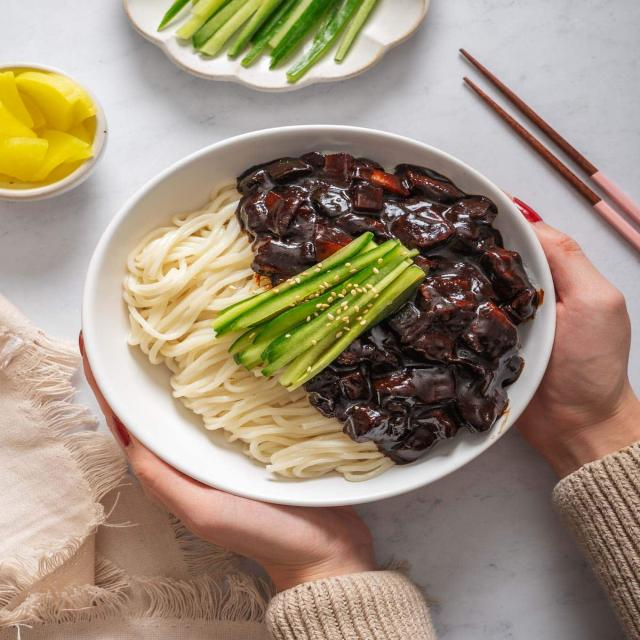carb: (125, 179, 394, 482)
vegetable: (238, 154, 544, 466), (217, 232, 430, 388)
